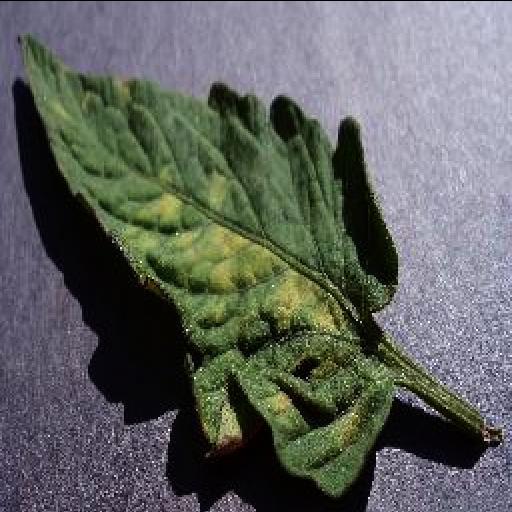disease_tomato: (20, 32, 398, 498)
